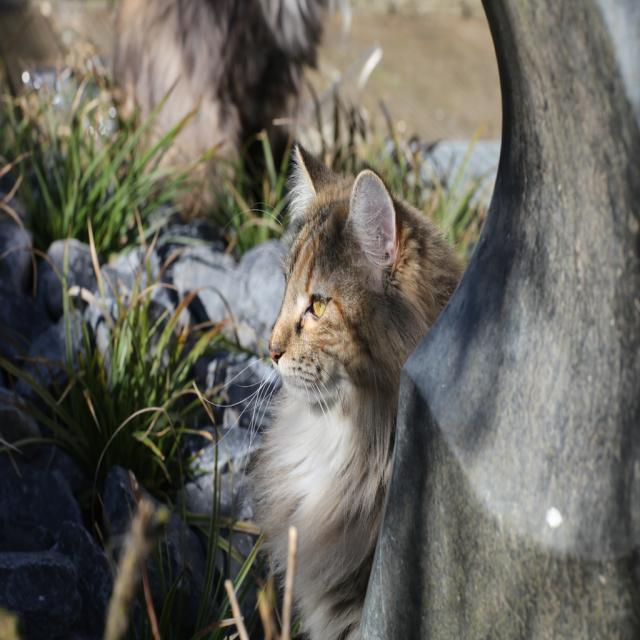Cat: (247, 137, 465, 638)
